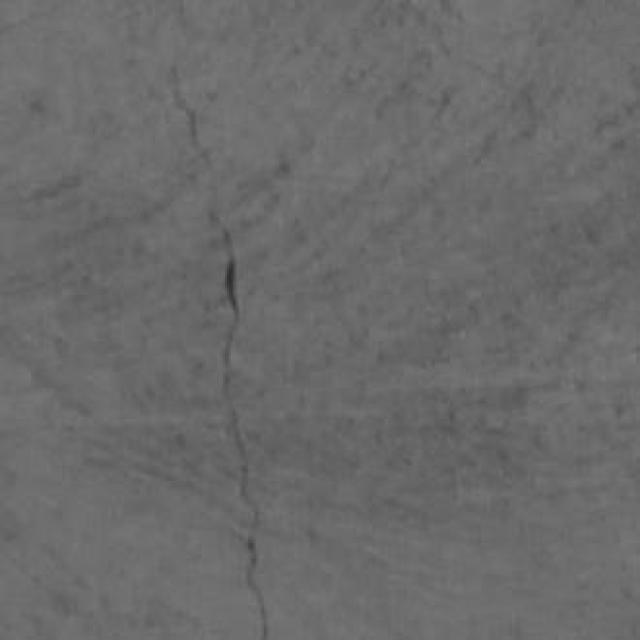crack: (210, 208, 269, 639)
